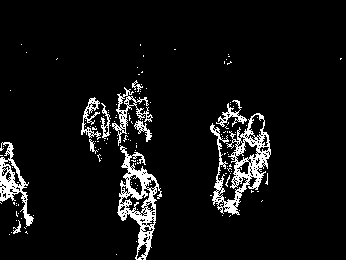person: (118, 153, 164, 260), (212, 98, 247, 212), (1, 139, 39, 235), (237, 113, 270, 217), (114, 87, 139, 165), (82, 97, 109, 164), (130, 77, 154, 142)
